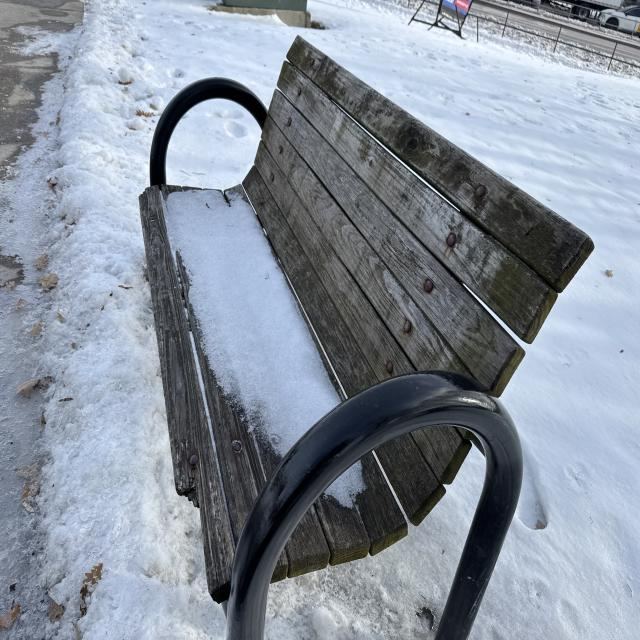Bench: (136, 34, 556, 602)
